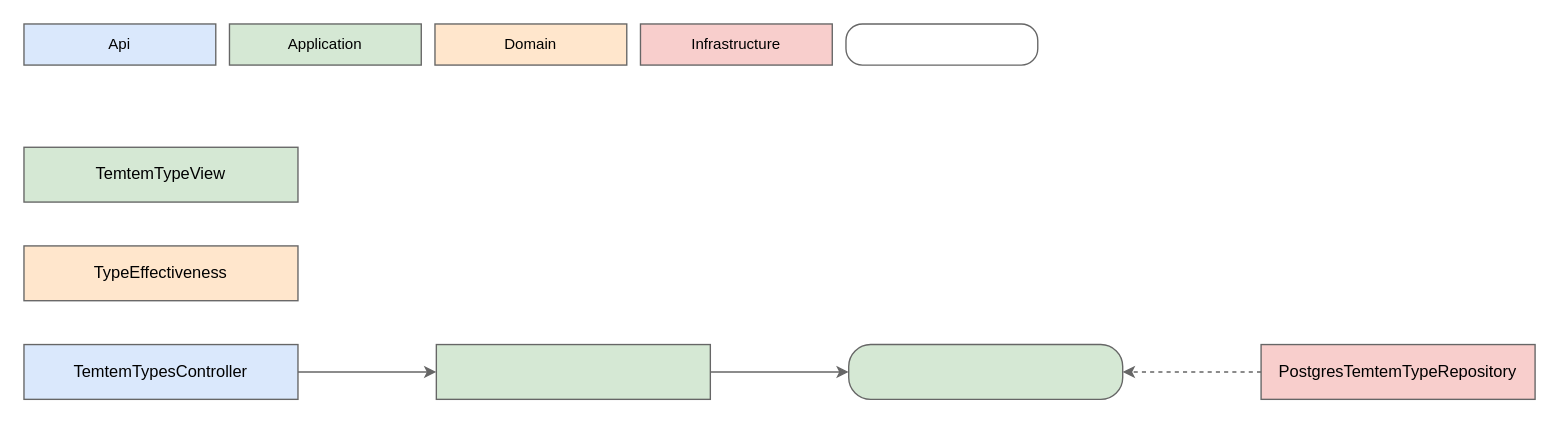
Image size: 1559x423. Some labels were removed from this diagram. The centre of each missing label's shape, as x and y in pixels:
"ITemtemTypeRepository" goes at pixel 985 371.
"ListTemtemTypesUseCase" goes at pixel 572 371.
"Port (interface)" goes at pixel 941 44.
